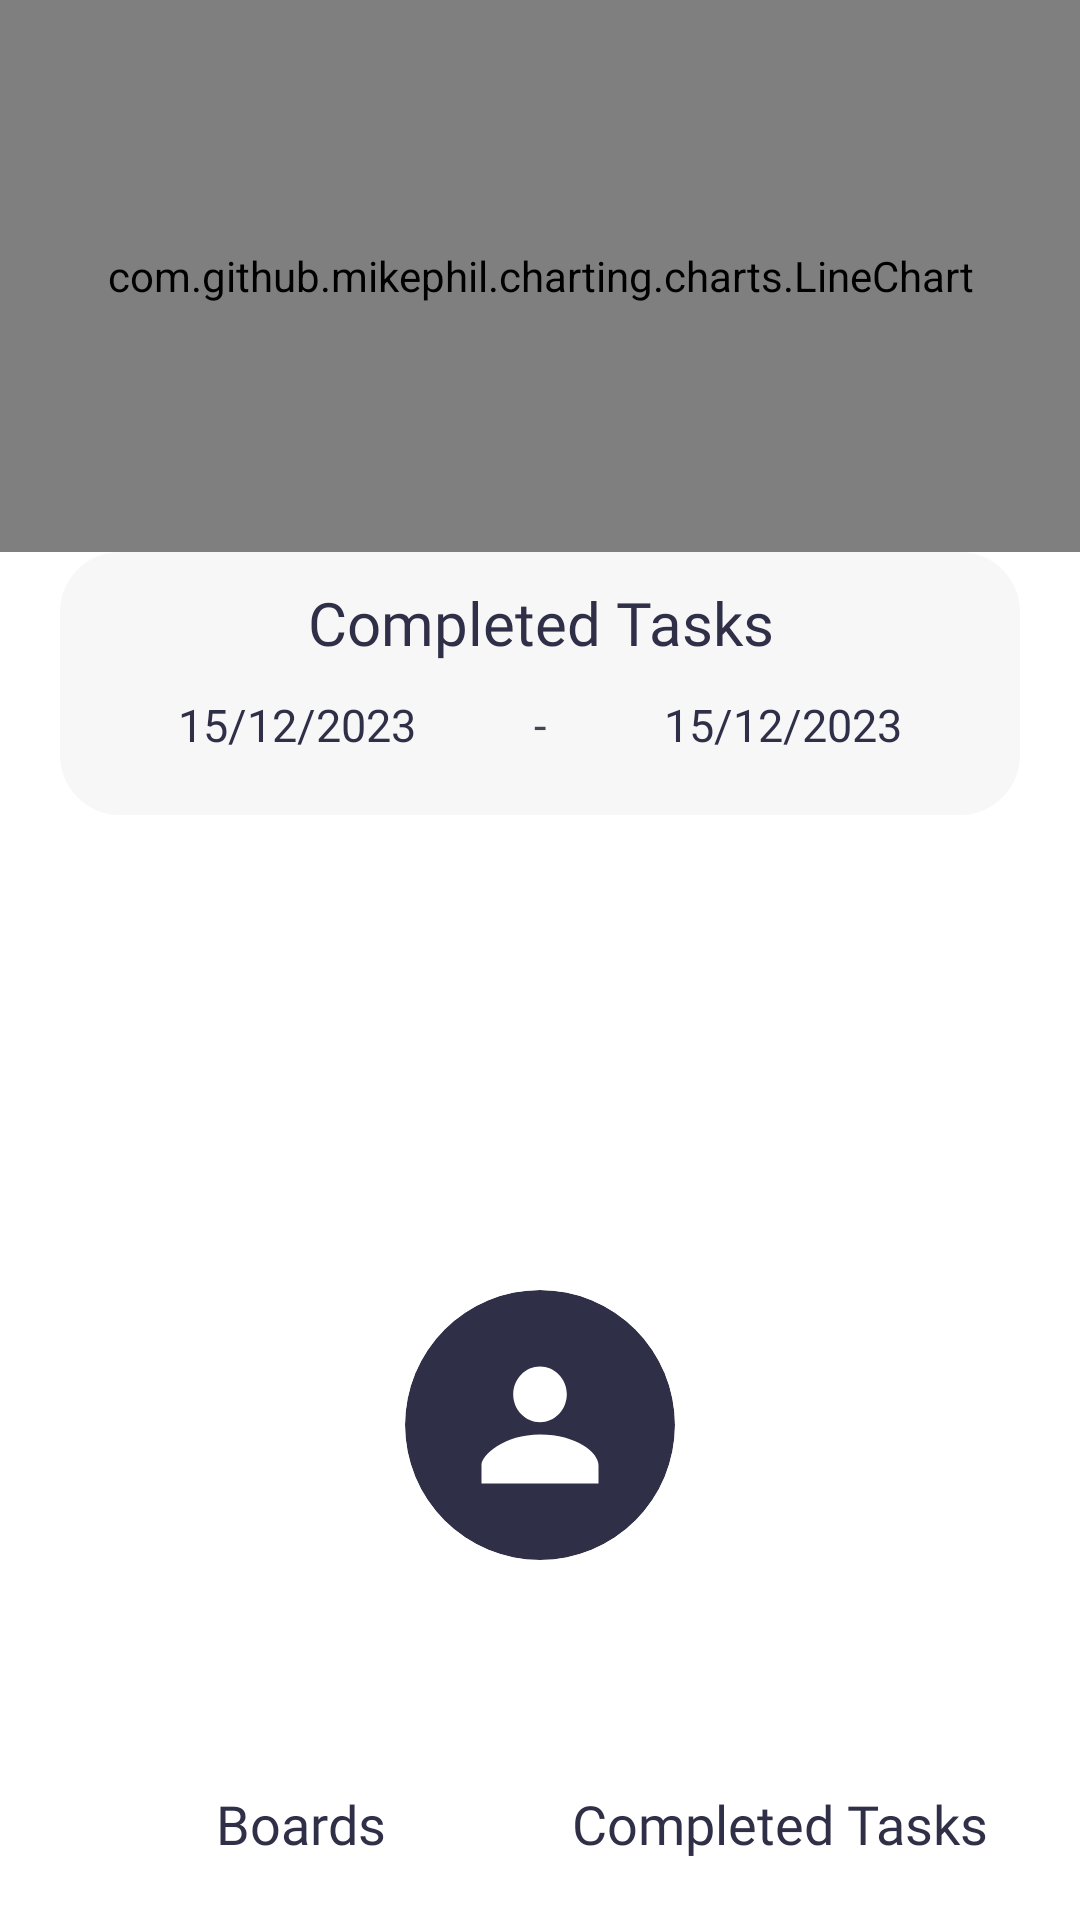

Locate icon controls on the screen. Image size 1080px x 1920px, boxes as (left=x1, top=y1, right=x2, bottom=y2).
profile: (left=405, top=1290, right=675, bottom=1560)
